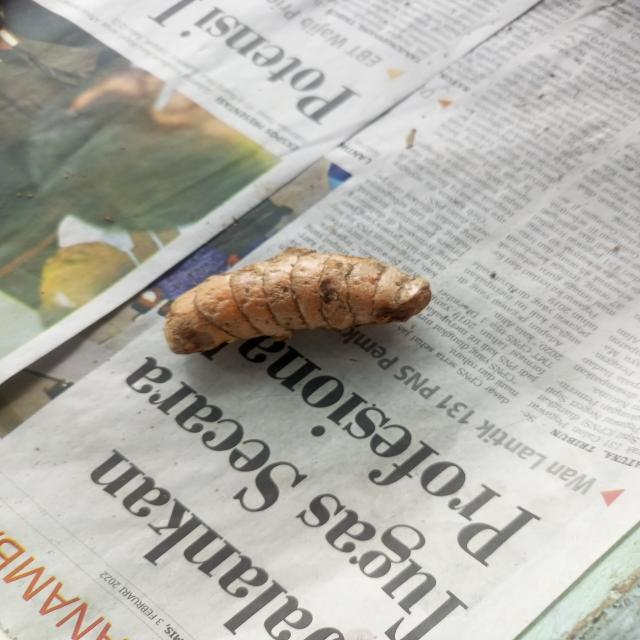ginger: (170, 252, 434, 357)
